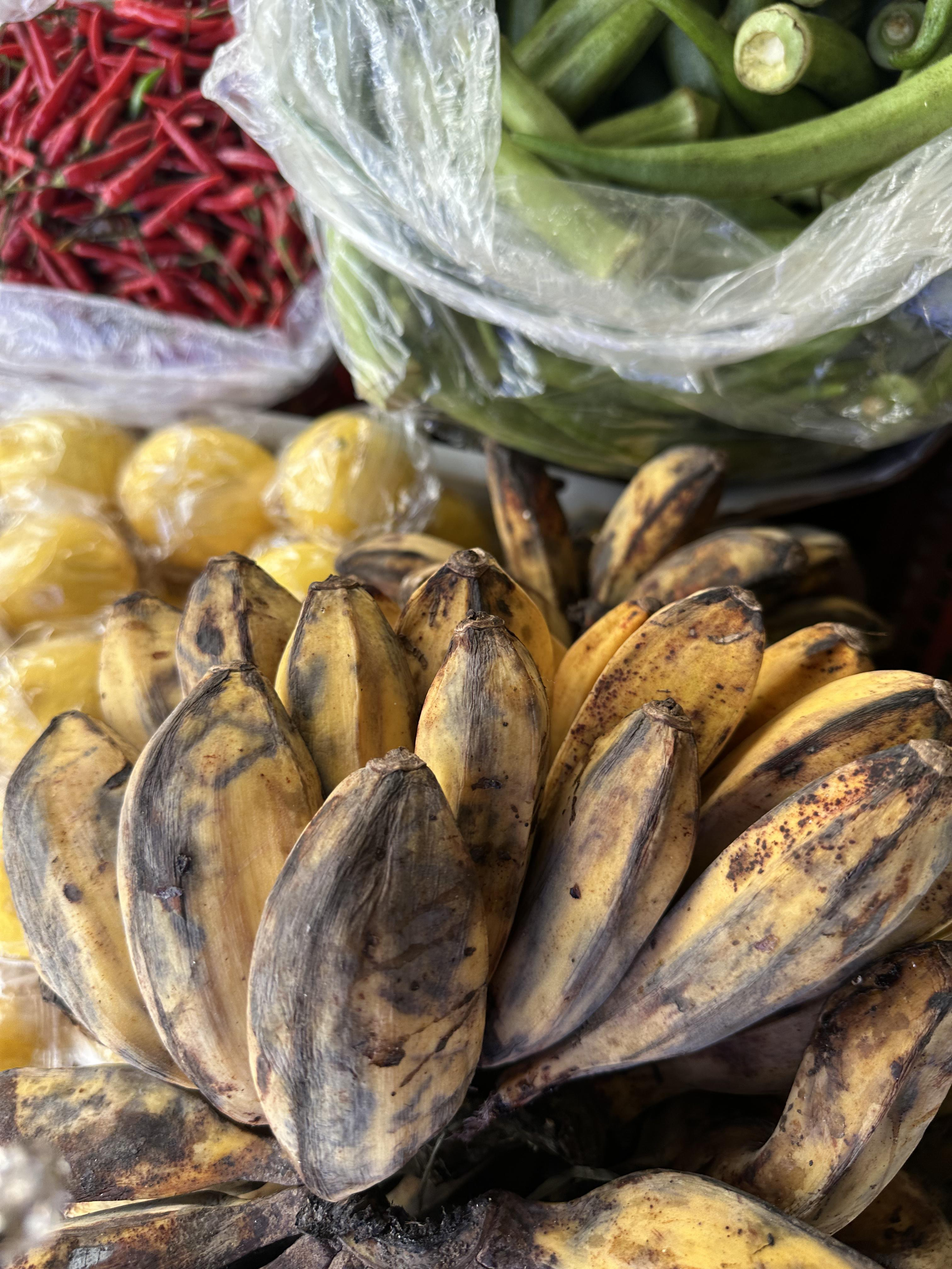ripe: (0, 556, 952, 1202)
